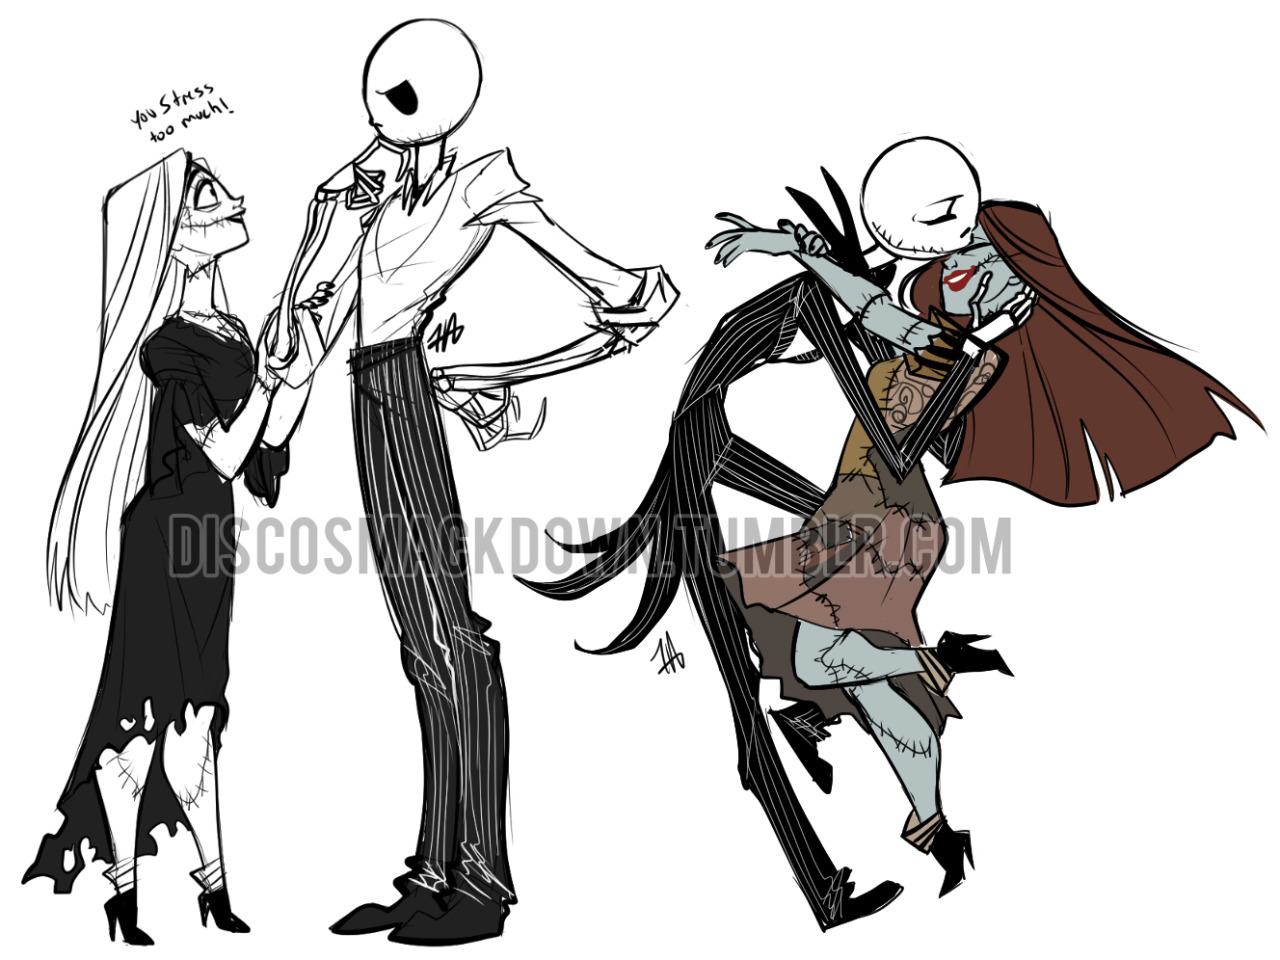Jack Skellington: (512, 34, 1039, 939), (259, 15, 682, 946)
